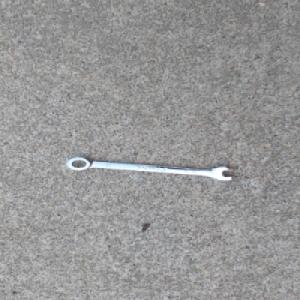Wrench: (66, 157, 238, 182)
